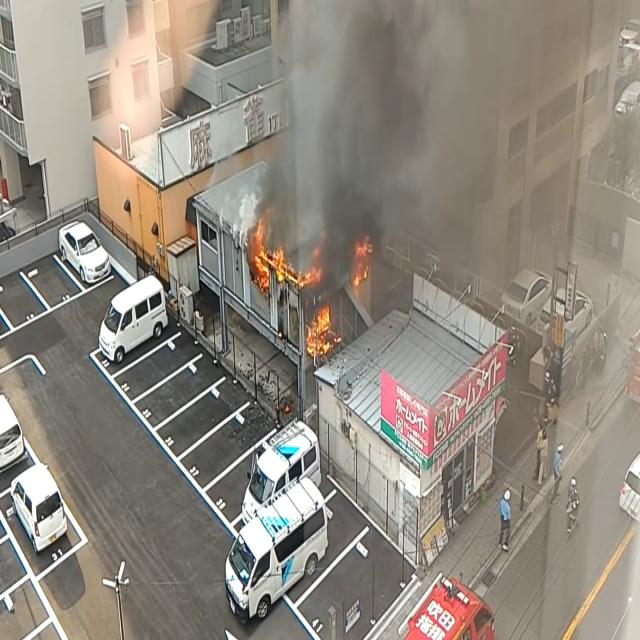Fire: (248, 230, 321, 294), (306, 300, 338, 359), (349, 232, 376, 292)
Smoke: (252, 0, 614, 297)
